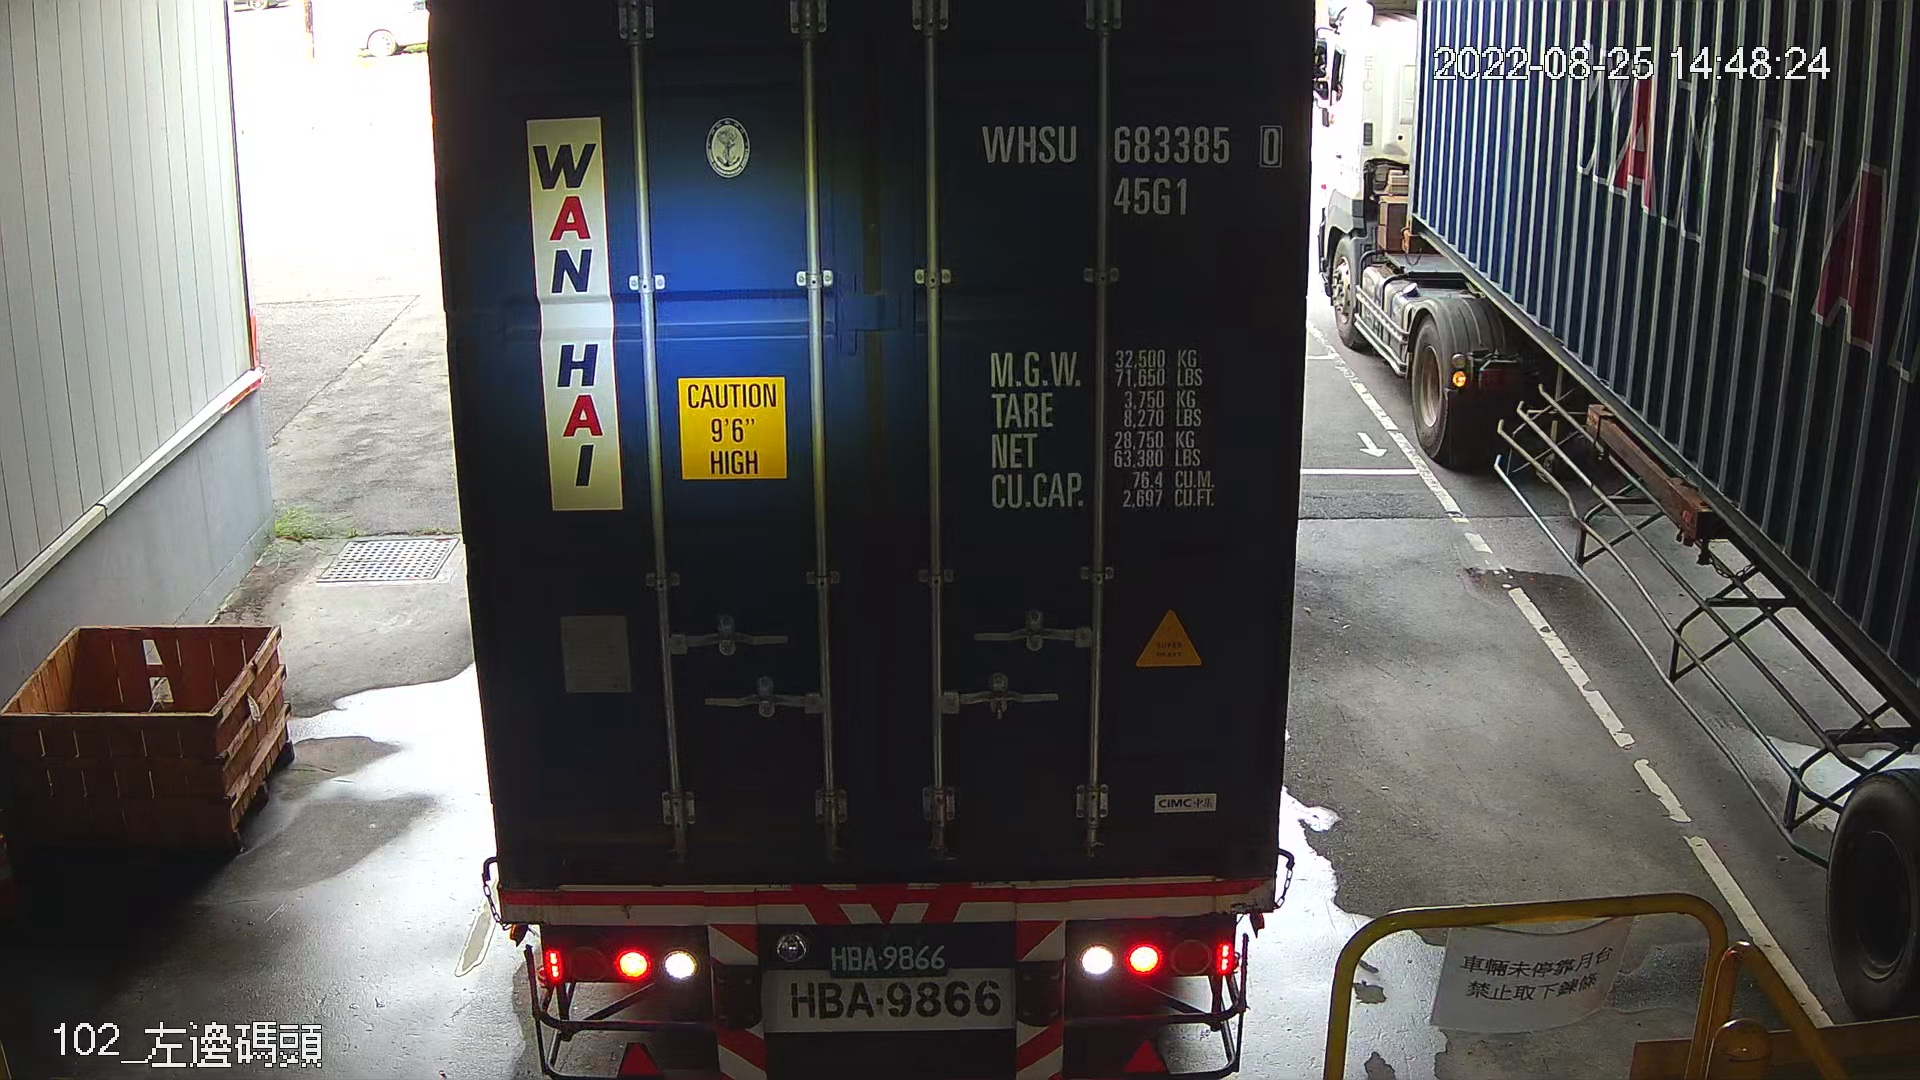container: (964, 105, 1295, 225)
